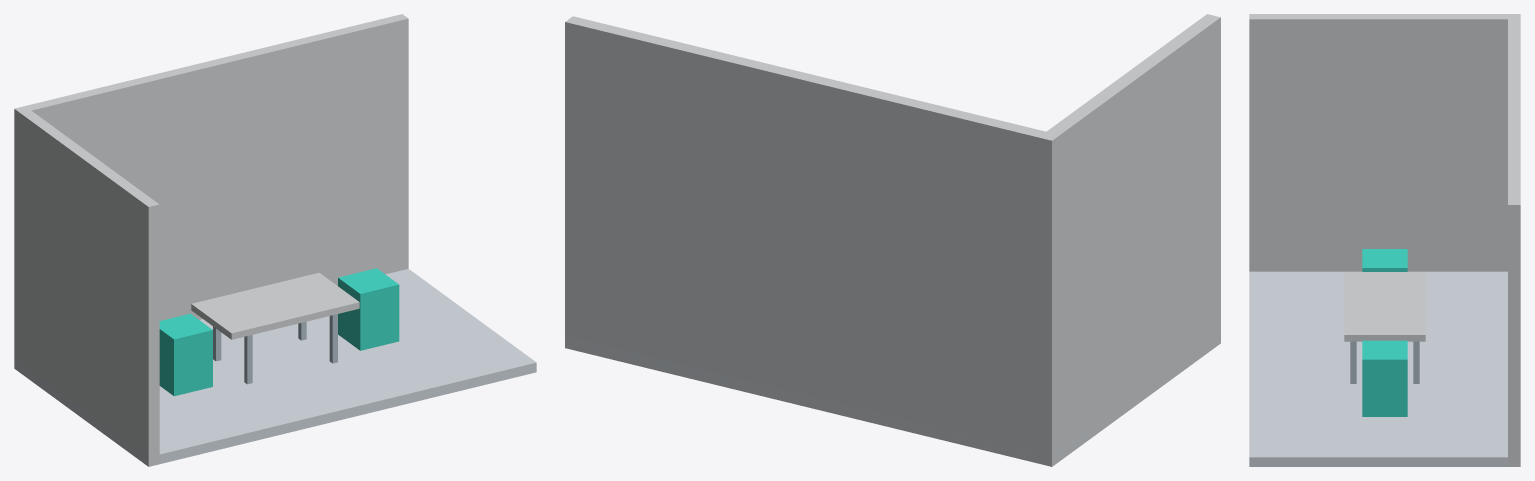
3 renders of one model, left to right at view 1: azimuth 30°, elevation 25°; view 2: azimuth 150°, elevation 25°; view 3: azimuth 270°, elevation 25°, orthographic. The views are drawn at different scales.
Parts seen in each view (by area): view 1: Exhibition Booth Concept; view 2: Exhibition Booth Concept; view 3: Exhibition Booth Concept.
Boxes of the visible parts, x1=… form: Exhibition Booth Concept: x1=14, y1=14, x2=536, y2=466; Exhibition Booth Concept: x1=565, y1=14, x2=1220, y2=466; Exhibition Booth Concept: x1=1249, y1=14, x2=1520, y2=466.
Bounding box in the file's own units: 5 × 3.2 × 3.
